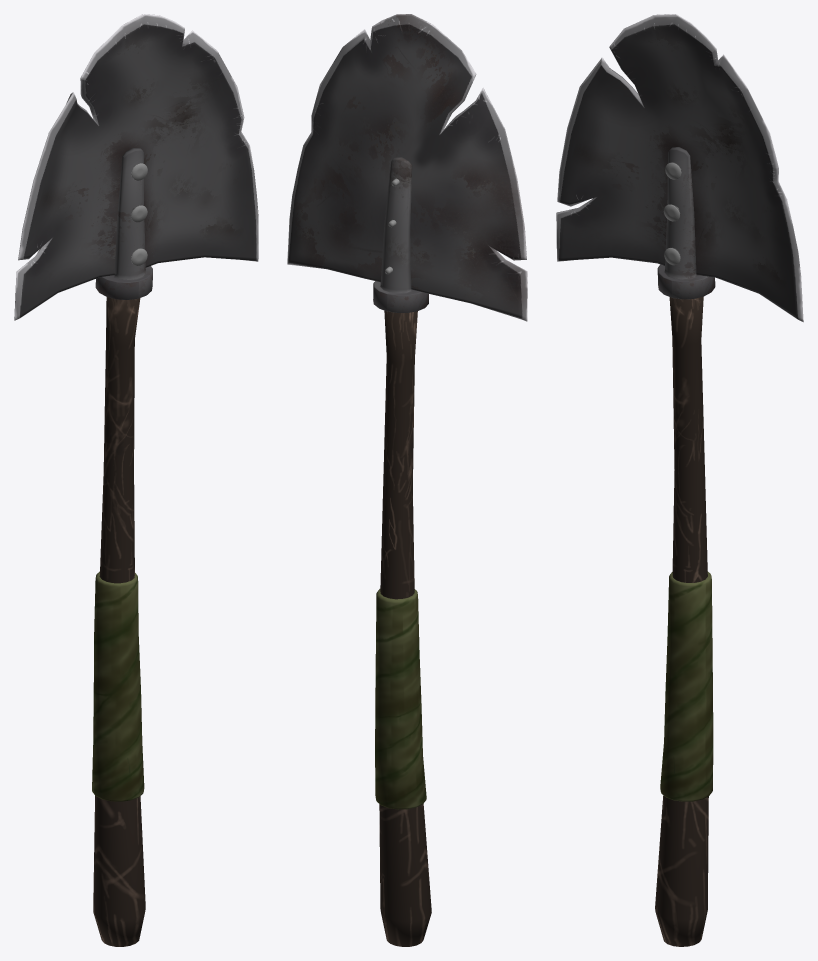
The model's file is kurek.fbx.
The picture shows the model from 3 angles, left to right: view 1: azimuth 30°, elevation 25°; view 2: azimuth 150°, elevation 25°; view 3: azimuth 330°, elevation 25°; orthographic projection. The views are drawn at different scales.
Parts seen in each view (by area): view 1: kurek; view 2: kurek; view 3: kurek.
Part boxes in pixels (x1,y1,x2,y2): kurek: [14, 14, 258, 946]; kurek: [287, 14, 527, 946]; kurek: [556, 14, 803, 946].
Bounding box in the file's own units: 45.08 × 164 × 11.33.
1 material, 1 textured.
